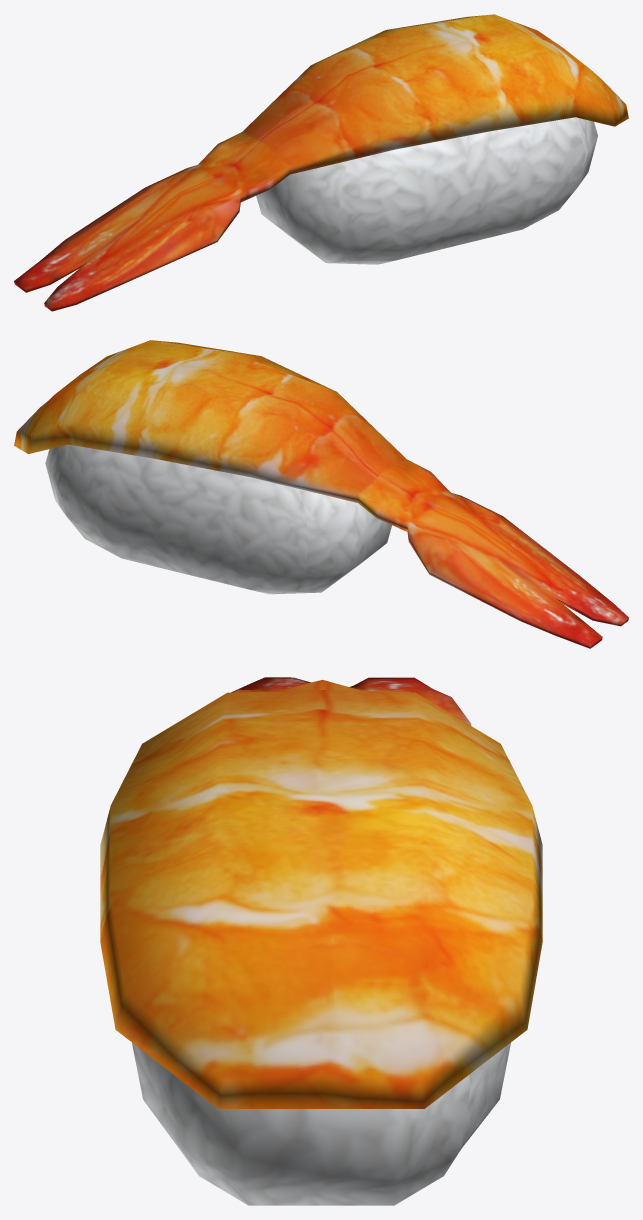
Rendered from shrimp.fbx.
3 renders of one model, top to bottom at view 1: azimuth 30°, elevation 25°; view 2: azimuth 150°, elevation 25°; view 3: azimuth 270°, elevation 25°, orthographic. The views are drawn at different scales.
Parts seen in each view (by area): view 1: shrimp; view 2: shrimp; view 3: shrimp.
Boxes of the visible parts, left/top/right/bottom form: shrimp: left=14, top=14, right=628, bottom=311; shrimp: left=14, top=340, right=628, bottom=648; shrimp: left=100, top=677, right=542, bottom=1205.
Size of the model in its own units: 10.68 by 3.35 by 3.62.
